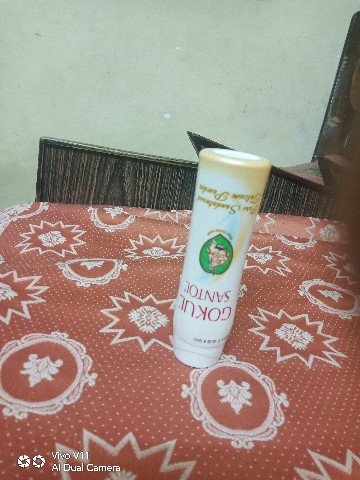gokulsantol big: (165, 142, 274, 389)
